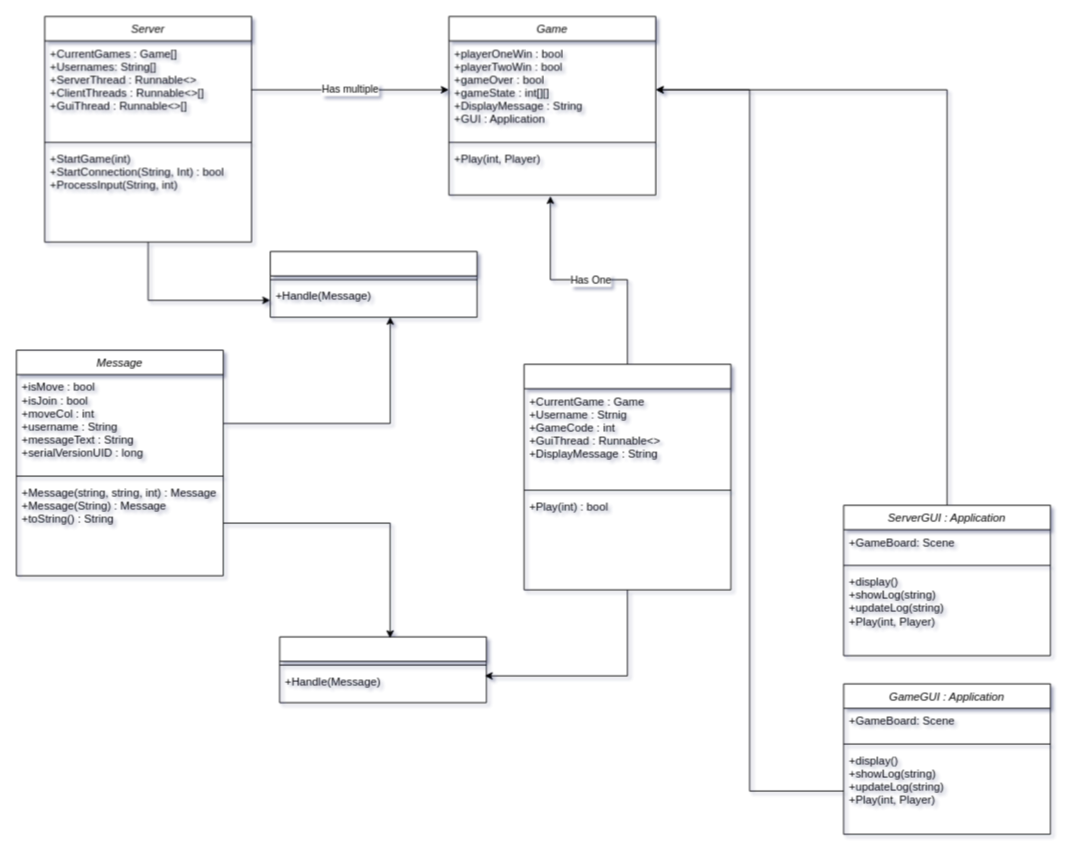
The diagram is 1073 pixels wide and 859 high, and some of its shapes have lost their labels. The box of each missing label's shape, as (x1, y1, x2, y2) in pixels:
Client: (523, 363, 731, 590)
ClientMessageHandler: (279, 636, 486, 703)
ServerMessageHandler: (269, 251, 477, 317)
